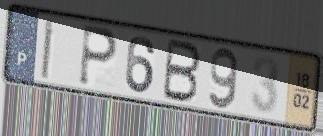3: (250, 54, 283, 117)
6: (125, 34, 157, 95)
9: (207, 45, 239, 111)
B: (160, 37, 203, 105)
I: (39, 17, 57, 82)
P: (77, 22, 120, 89)
